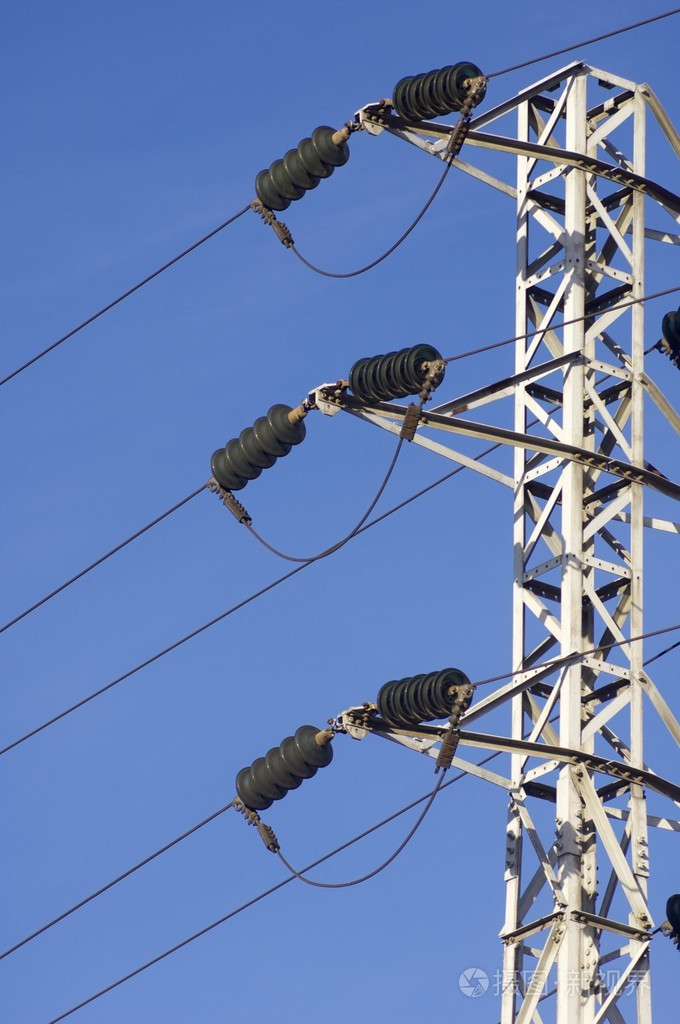insulator: (249, 122, 342, 220), (238, 723, 336, 811), (209, 401, 305, 487), (350, 335, 438, 406), (375, 660, 468, 724), (389, 61, 489, 118)
